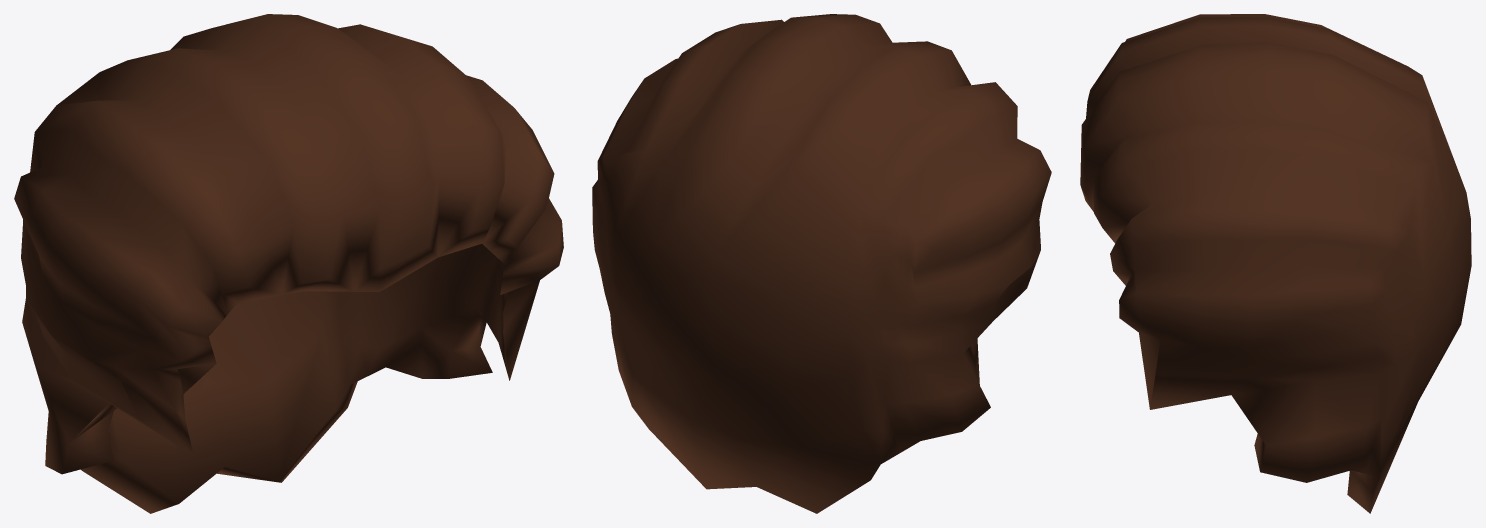
3 renders of one model, left to right at view 1: azimuth 30°, elevation 25°; view 2: azimuth 150°, elevation 25°; view 3: azimuth 270°, elevation 25°, orthographic. The views are drawn at different scales.
Parts seen in each view (by area): view 1: hairMediumPushedBack; view 2: hairMediumPushedBack; view 3: hairMediumPushedBack.
Part boxes in pixels (left/top/right/bottom): hairMediumPushedBack: left=14, top=14, right=563, bottom=513; hairMediumPushedBack: left=592, top=14, right=1051, bottom=513; hairMediumPushedBack: left=1080, top=14, right=1471, bottom=513.
Size of the model in its own units: 0.6025 by 0.6275 by 0.5007.
1 material, 1 textured.
